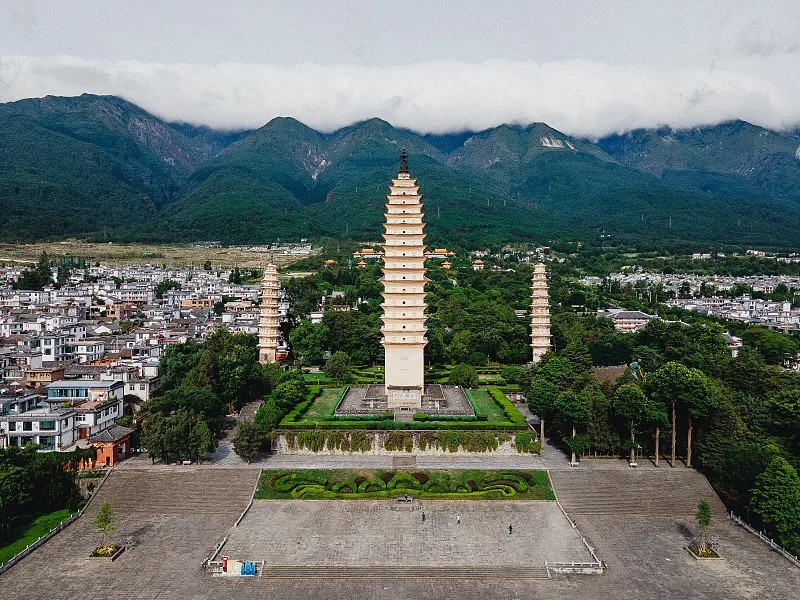ThreePagoda: (379, 147, 430, 396)
